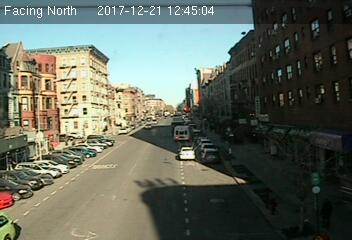car: (200, 147, 219, 163), (178, 146, 195, 161)
truck: (174, 125, 190, 142)
